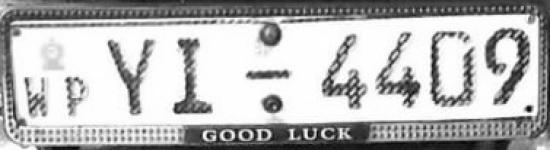-: (242, 66, 296, 88)
0: (427, 27, 479, 113)
4: (309, 28, 373, 115), (373, 30, 426, 112)
9: (478, 24, 532, 106)
I: (170, 34, 226, 118)
P: (59, 72, 97, 121)
W: (20, 74, 55, 122)
Y: (100, 32, 162, 119)
